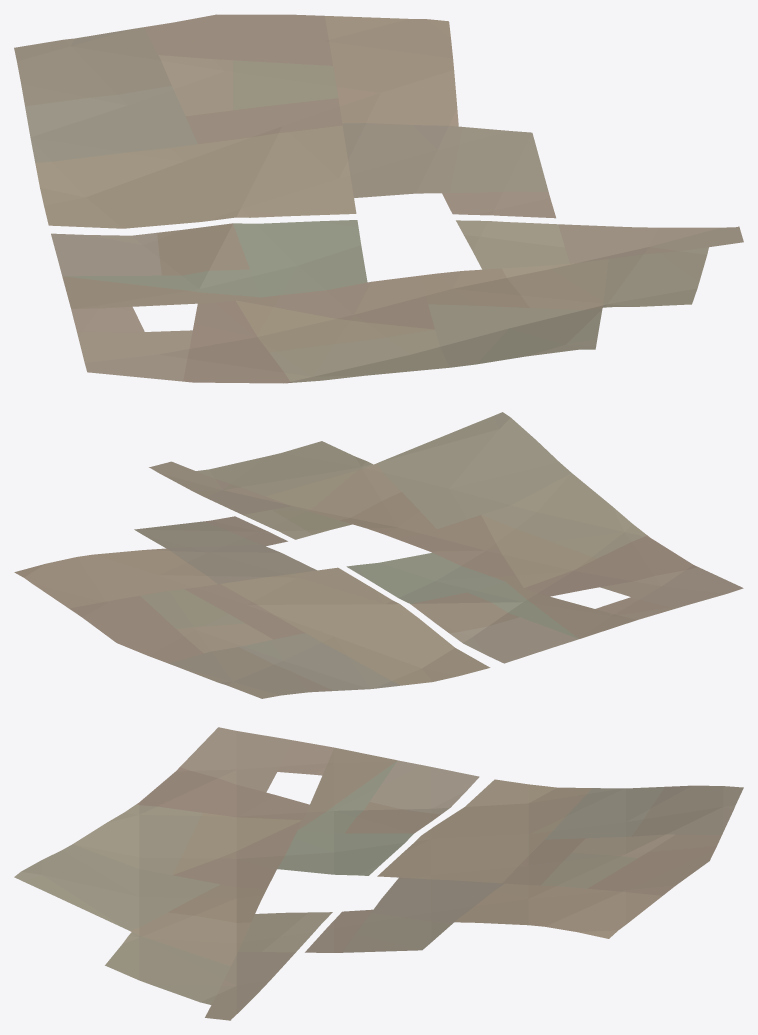
File: farm_-1_1_soil.glb
3 renders of one model, top to bottom at view 1: azimuth 30°, elevation 25°; view 2: azimuth 150°, elevation 25°; view 3: azimuth 270°, elevation 25°, orthographic. The views are drawn at different scales.
Visible parts, largest first — view 1: geometry_0; view 2: geometry_0; view 3: geometry_0.
Boxes of the visible parts, bbox=[...] form: geometry_0: bbox=[14, 14, 743, 383]; geometry_0: bbox=[14, 412, 743, 698]; geometry_0: bbox=[14, 727, 743, 1020].
Bounding box in the file's own units: 537 × 54.65 × 600.
